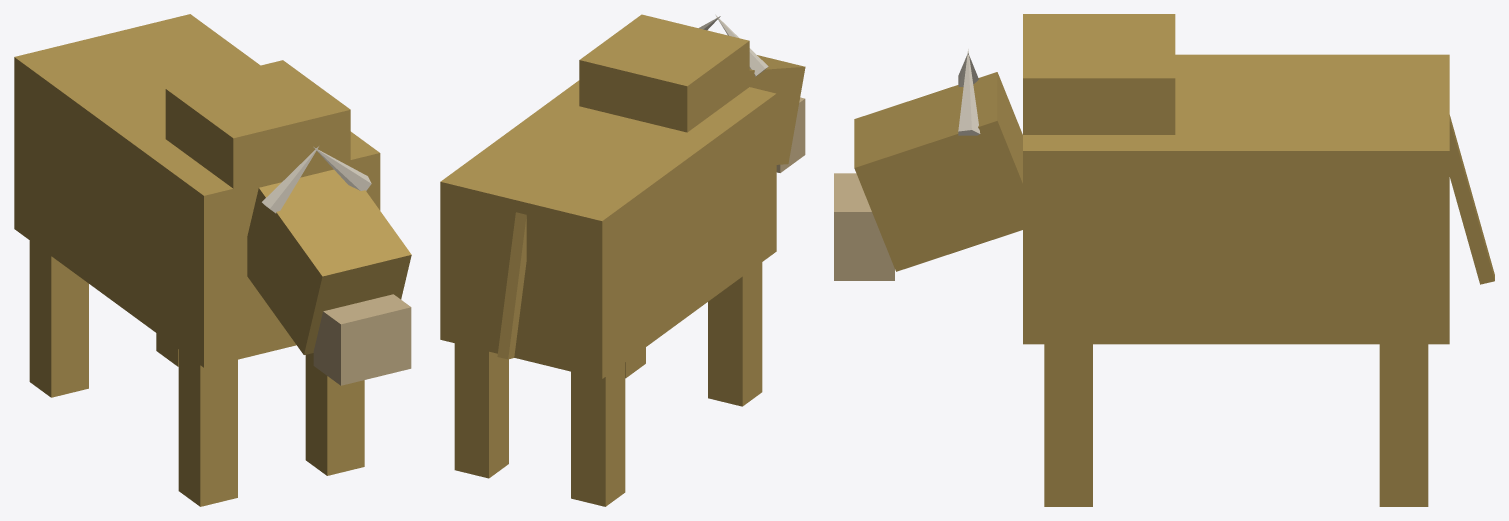
Rendered from prop_cow.glb.
The picture shows the model from 3 angles, left to right: view 1: azimuth 30°, elevation 25°; view 2: azimuth 150°, elevation 25°; view 3: azimuth 270°, elevation 25°; orthographic projection. The views are drawn at different scales.
Parts seen in each view (by area): view 1: prop_cow; view 2: prop_cow; view 3: prop_cow.
Part boxes in pixels (x1,y1,x2,y2): prop_cow: (14, 14, 411, 506); prop_cow: (440, 14, 805, 506); prop_cow: (834, 14, 1494, 506).
Bounding box in the file's own units: 0.75 × 1.5 × 2.17.
